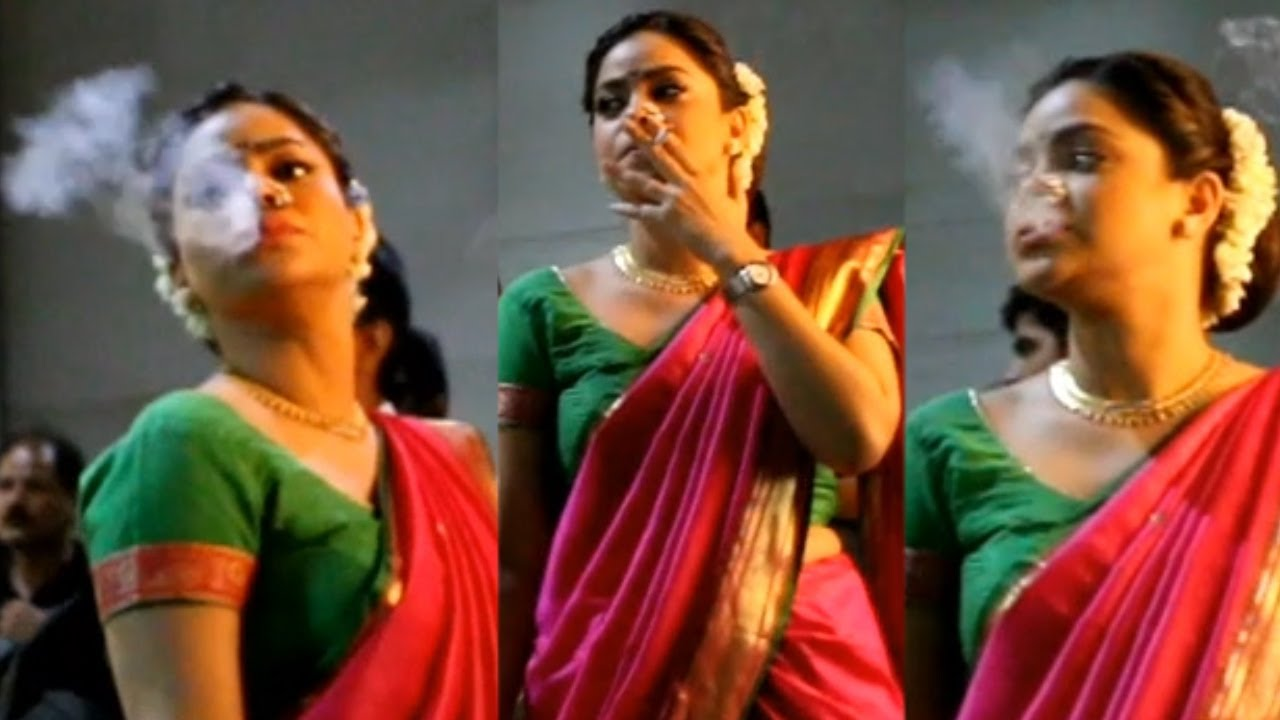cigarette: (639, 118, 693, 153)
